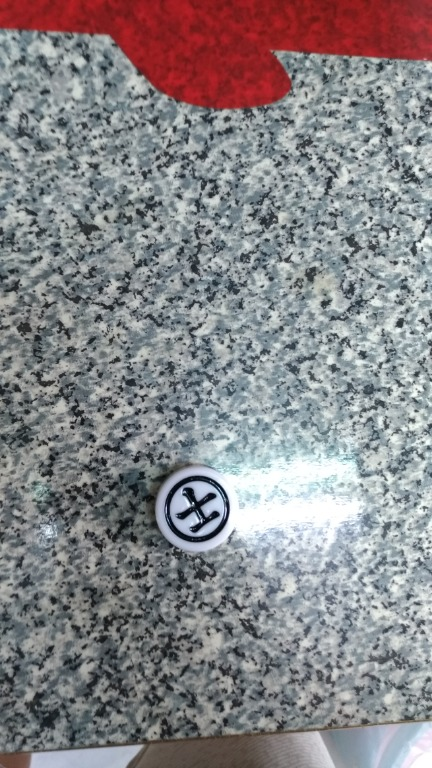b-advisor: (123, 458, 257, 560)
